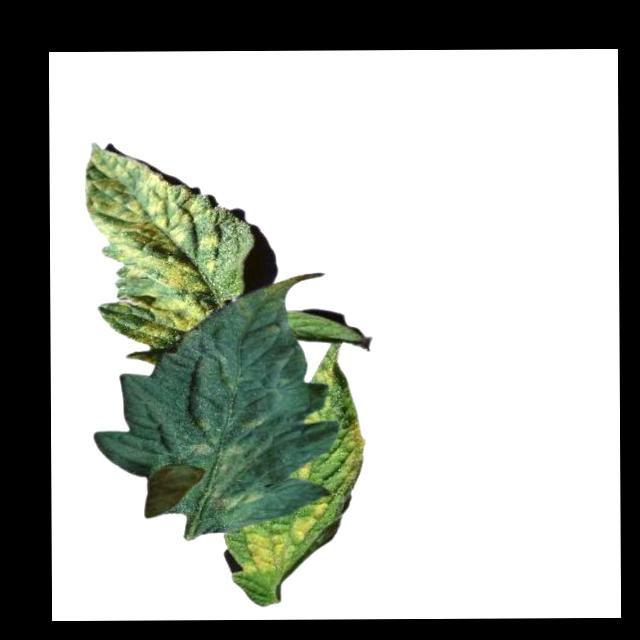Leaf_Mold: (83, 145, 221, 346), (237, 495, 331, 576), (181, 436, 266, 511), (342, 416, 366, 492), (308, 362, 335, 386), (295, 459, 312, 481)
